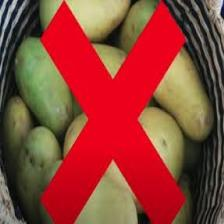Defected potato: (10, 34, 75, 140), (152, 41, 218, 143), (15, 122, 65, 223), (0, 93, 33, 183)
